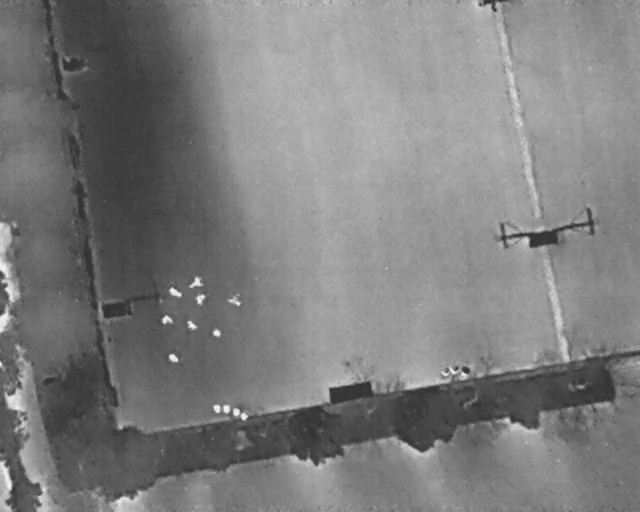Person: (190, 275, 205, 288), (227, 294, 242, 307), (169, 286, 182, 298), (160, 314, 173, 326), (185, 320, 199, 331), (168, 353, 179, 364), (196, 294, 206, 305), (212, 328, 221, 337)
